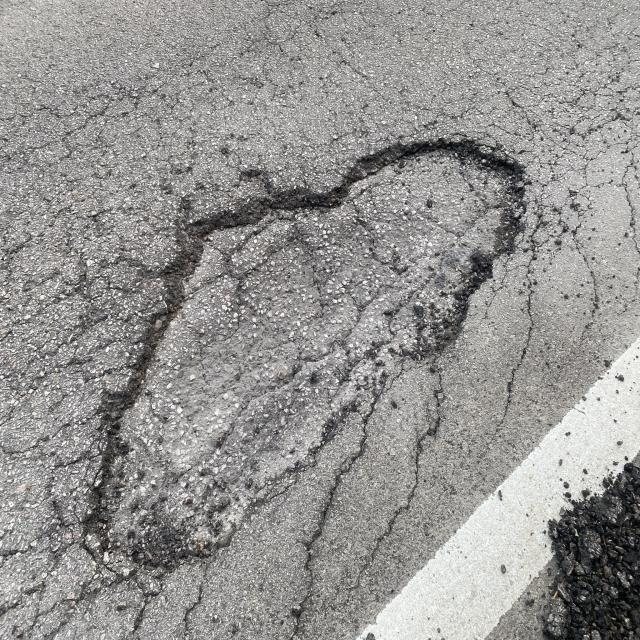pothole: (46, 103, 553, 590)
